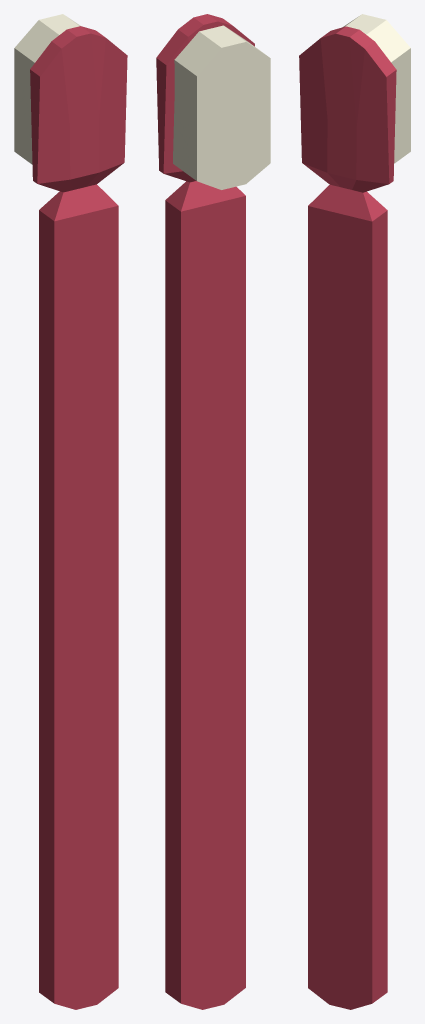
Rendered from toothbrush.fbx.
3 renders of one model, left to right at view 1: azimuth 30°, elevation 25°; view 2: azimuth 210°, elevation 25°; view 3: azimuth 330°, elevation 25°, orthographic.
Parts seen in each view (by area): view 1: Cube; view 2: Cube; view 3: Cube.
Boxes of the visible parts, <box> form: Cube: <box>14,14,127,1009</box>; Cube: <box>156,14,270,1009</box>; Cube: <box>299,14,410,1009</box>.
Size of the model in its own units: 22.39 by 237 by 15.53.
